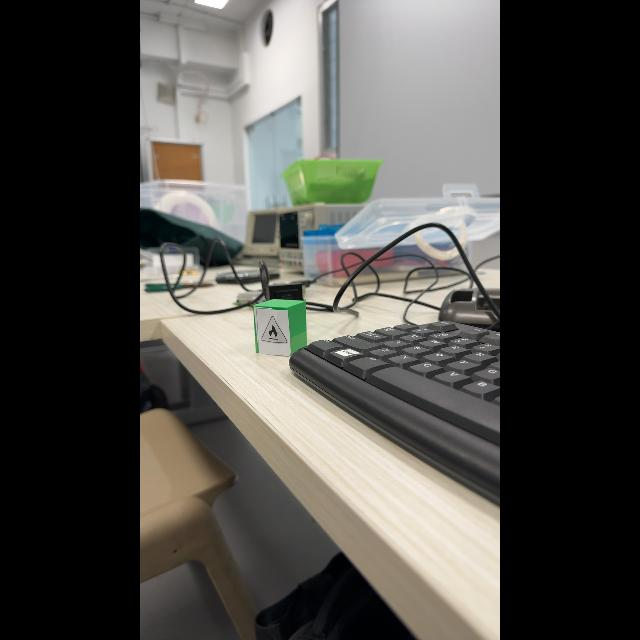Fire: (261, 315, 287, 343)
